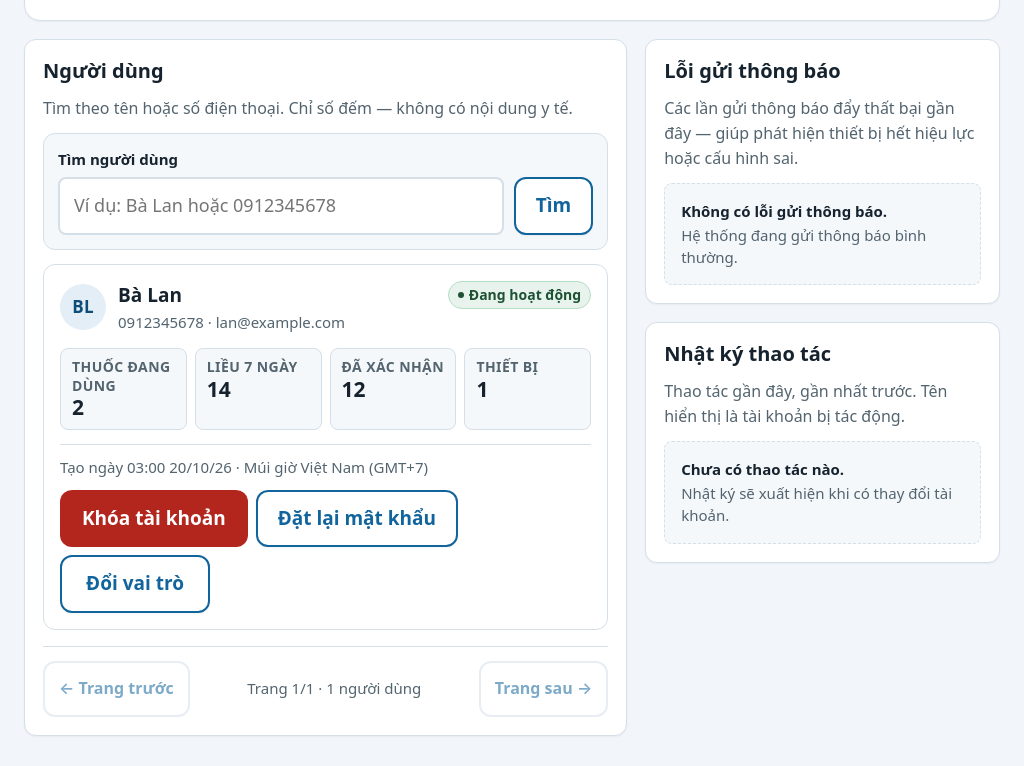
Scenario: Khu vực quản trị (chỉ đọc + khóa/mật khẩu) › đặt lại mật khẩu thành công → gọi API, đóng hộp thoại và nhắc gửi qua kênh riêng
(page scrolled)
Expected: the heading "Bà Lan" is shown, [118,282,182,308]
Click the button with aria-label "Đặt lại mật khẩu cho Bà Lan": (357, 519) [256,490,458,547]
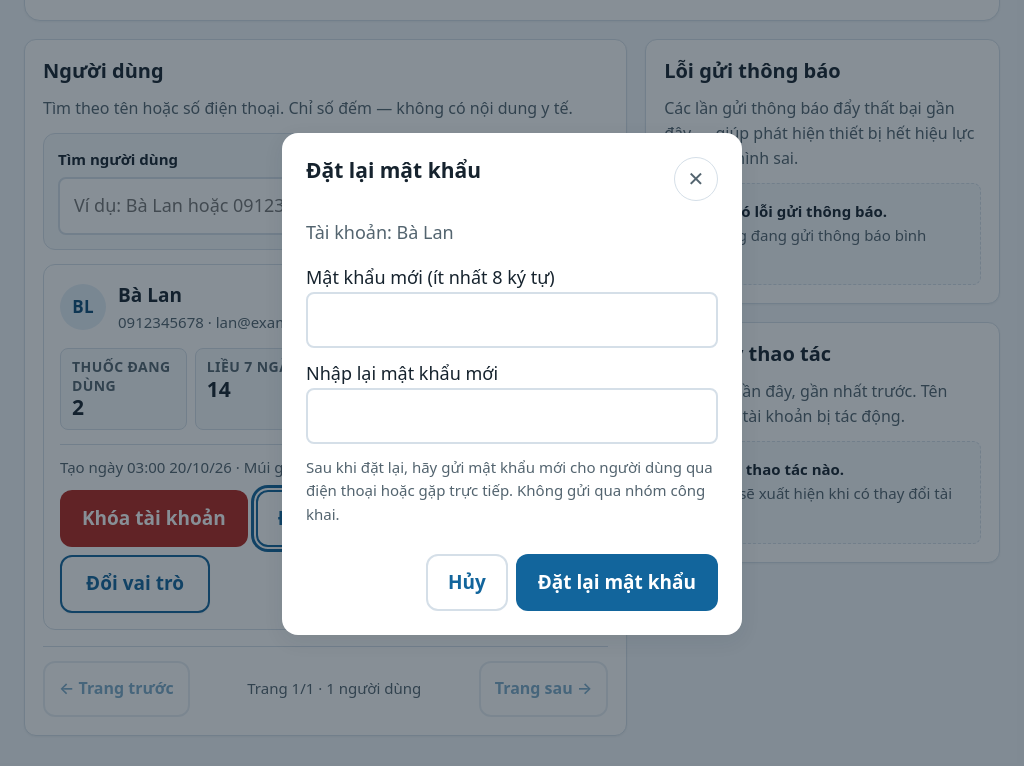
In the password field labelled "Mật khẩu mới (ít nhất 8 ký tự)": (512, 320) [306,292,718,348], type "matkhaumoi123"
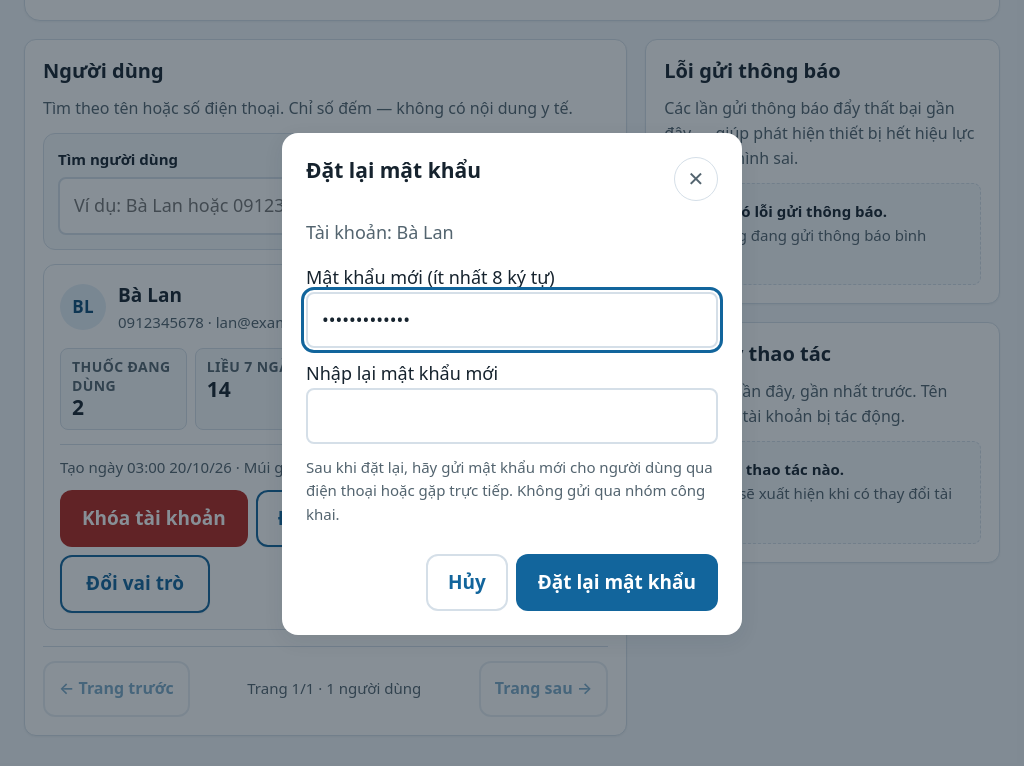
In the password field labelled "Nhập lại mật khẩu mới": (512, 416) [306,388,718,444], type "matkhaumoi123"
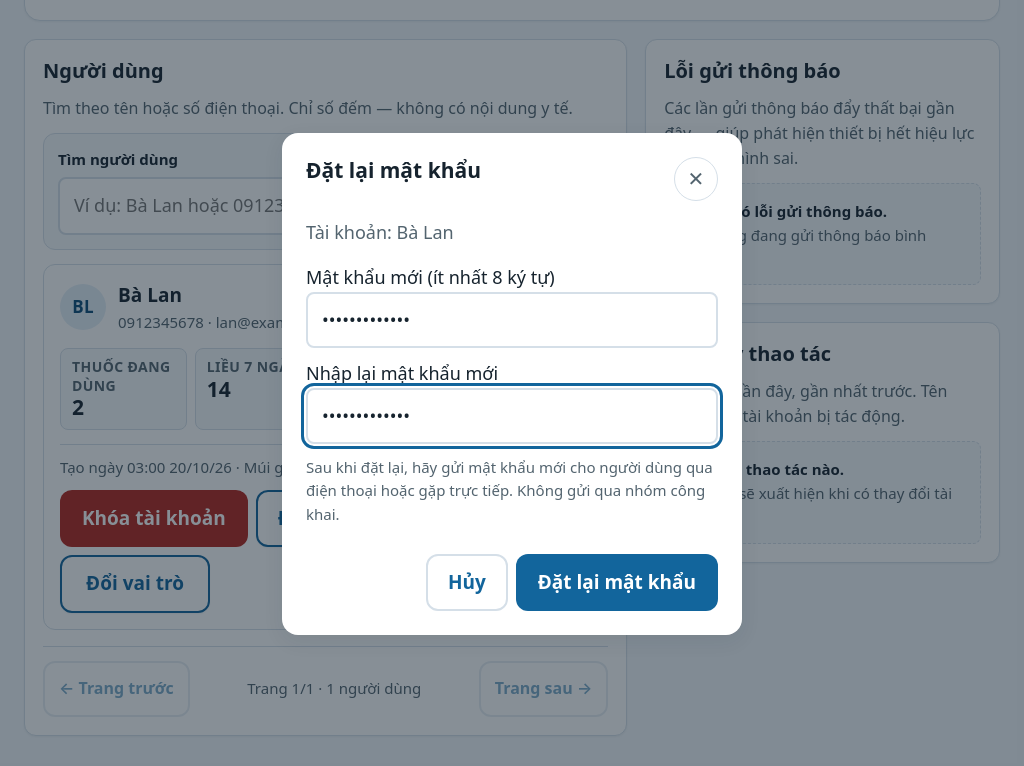
Click the button "Đặt lại mật khẩu": (617, 583) [516,554,718,611]
(page scrolled)
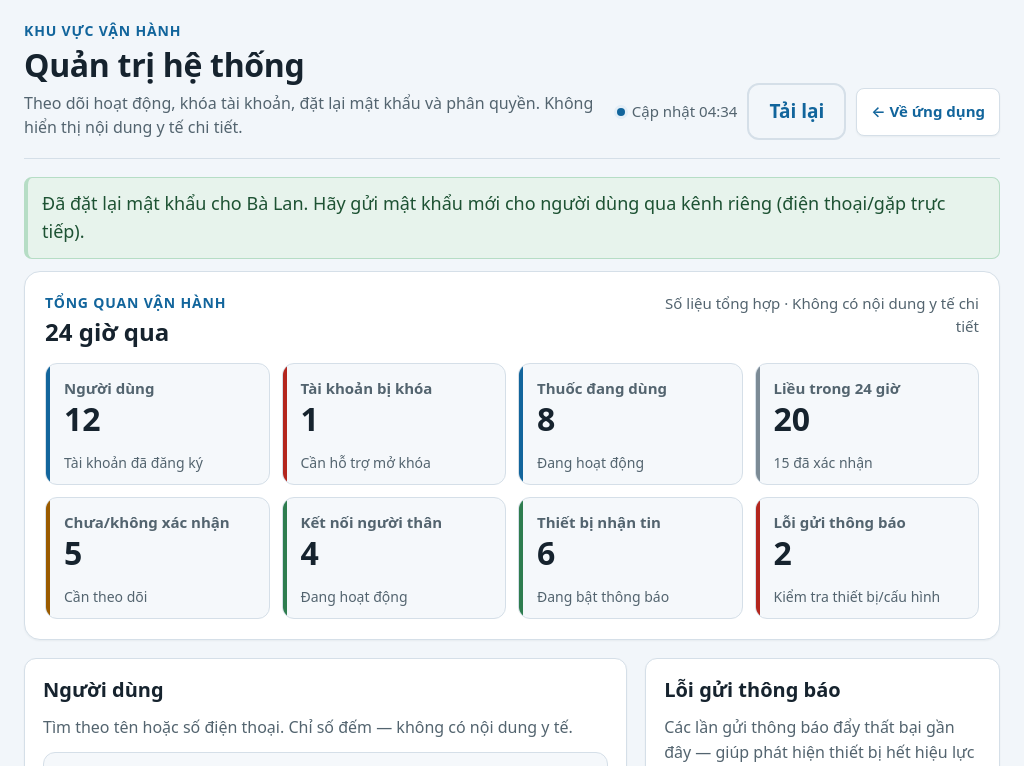
Now the text "kênh riêng" is shown, box [42,191,946,243]
Now the dialog is gone
